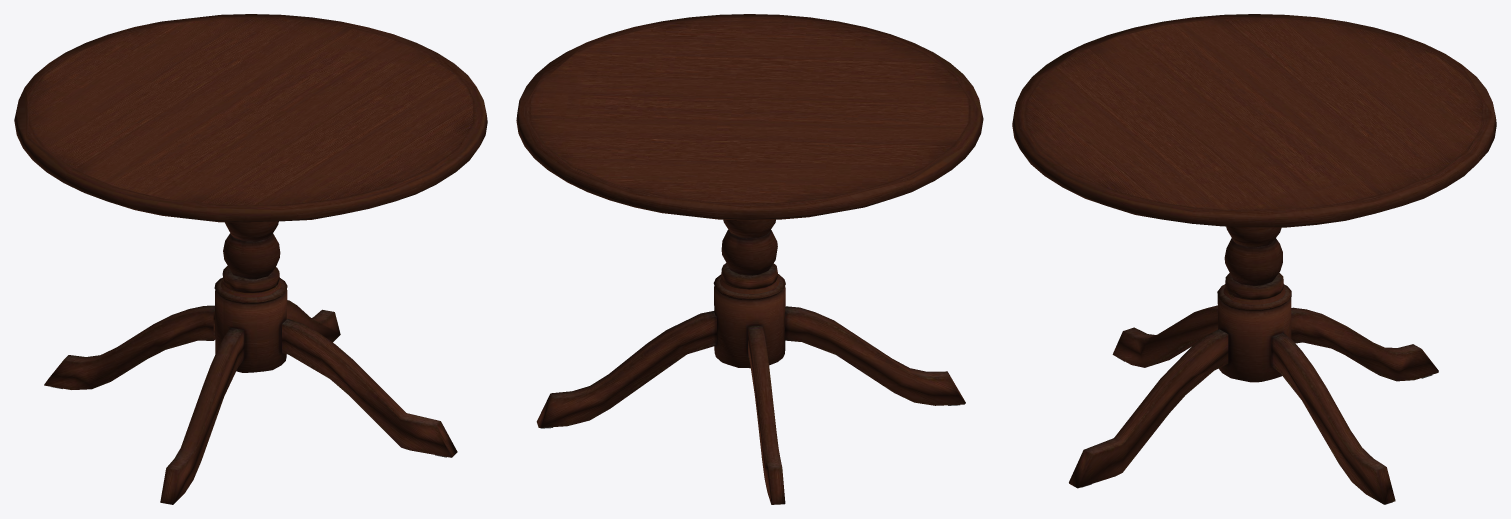
The picture shows the model from 3 angles, left to right: view 1: azimuth 30°, elevation 25°; view 2: azimuth 150°, elevation 25°; view 3: azimuth 270°, elevation 25°; orthographic projection. The views are drawn at different scales.
Visible parts, largest first — view 1: round_wooden_table_01; view 2: round_wooden_table_01; view 3: round_wooden_table_01.
Boxes of the visible parts, x1,y1,x2,y2 form: round_wooden_table_01: (14,14,487,504); round_wooden_table_01: (516,14,983,504); round_wooden_table_01: (1012,14,1496,504).
Bounding box in the file's own units: 1.4 × 1 × 1.4.
1 material, 1 textured.
